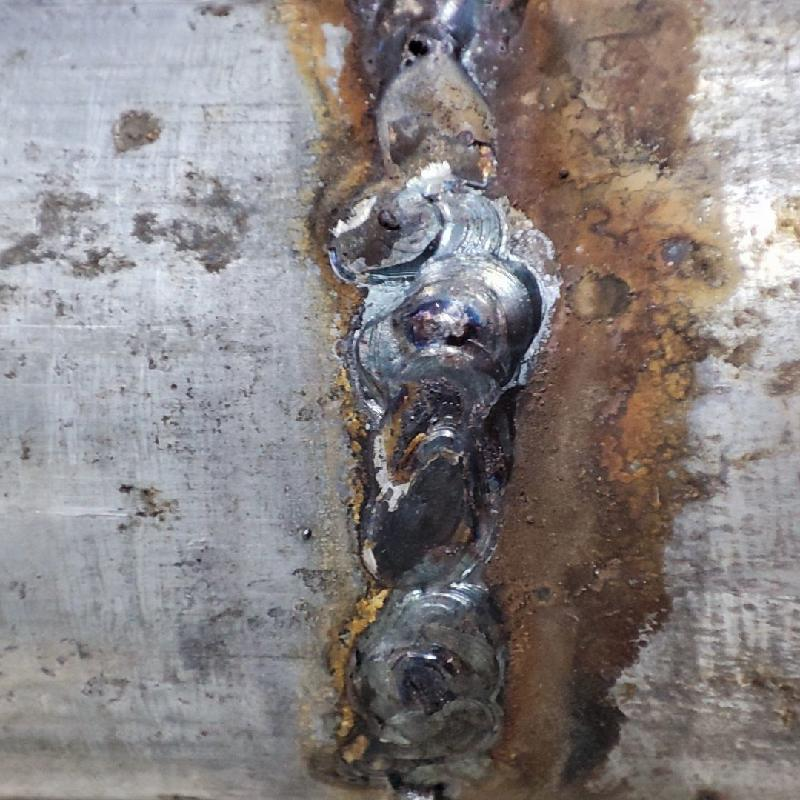Not_fully_soldered: (373, 25, 511, 197)
